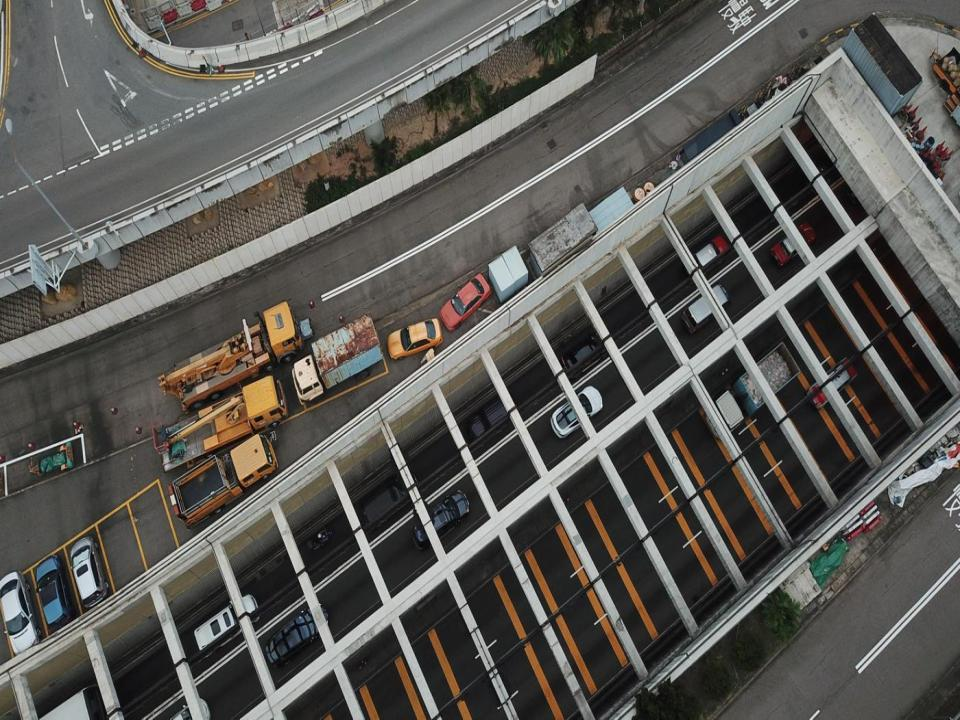car: (0, 570, 41, 658), (34, 555, 76, 635), (439, 272, 491, 331), (69, 536, 109, 608), (550, 386, 602, 438), (807, 356, 857, 410), (387, 317, 443, 361), (560, 326, 608, 377), (770, 222, 817, 268), (684, 236, 729, 275), (164, 697, 210, 719)
truck: (158, 300, 315, 414), (152, 376, 287, 472), (168, 433, 278, 529), (292, 312, 383, 406)
van: (705, 342, 801, 439), (193, 593, 260, 656), (265, 601, 328, 667), (412, 490, 468, 552), (360, 472, 418, 529), (467, 388, 517, 444), (682, 284, 731, 334)
